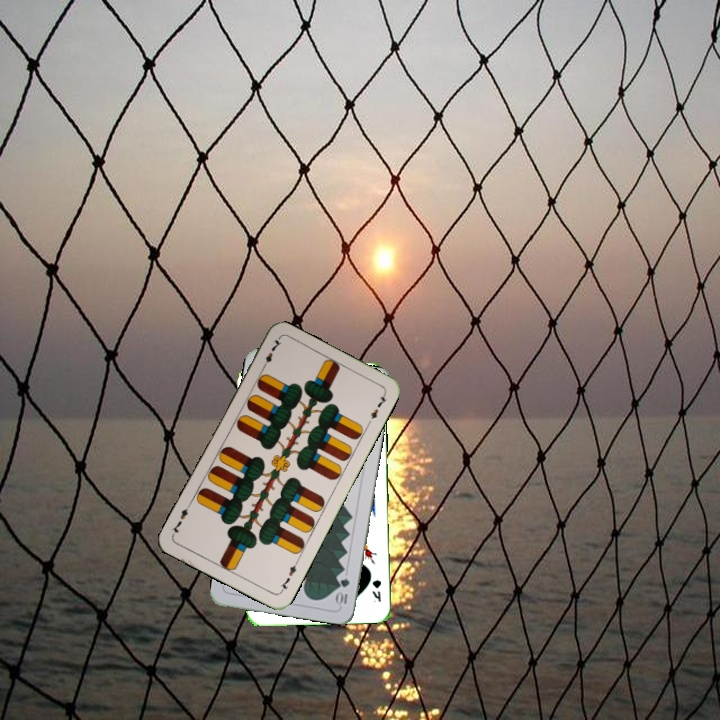E7: (258, 335, 284, 372), (277, 557, 301, 595)
G10: (333, 574, 352, 608)
GK: (368, 576, 383, 605)
